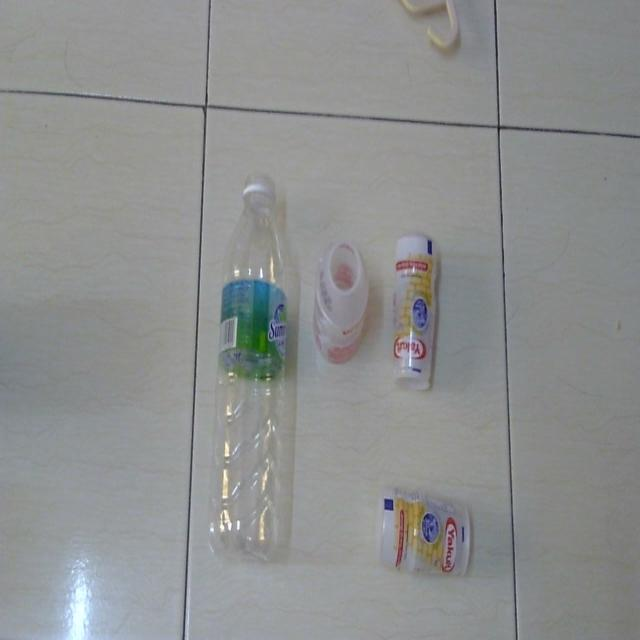plastic_laydown_0rotation: (374, 477, 476, 598)
plastic_laydown_90rotation: (204, 164, 295, 567), (388, 231, 439, 392)
plastic_standrotation: (312, 232, 371, 366)
